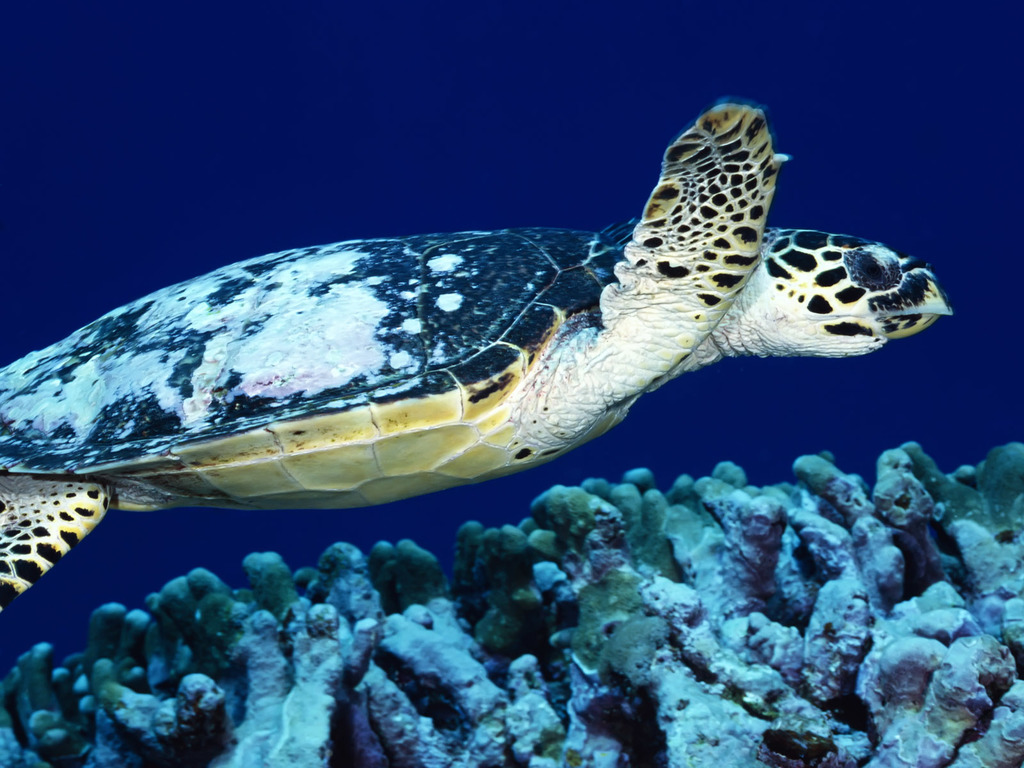Sea turtles: (0, 97, 957, 617)
